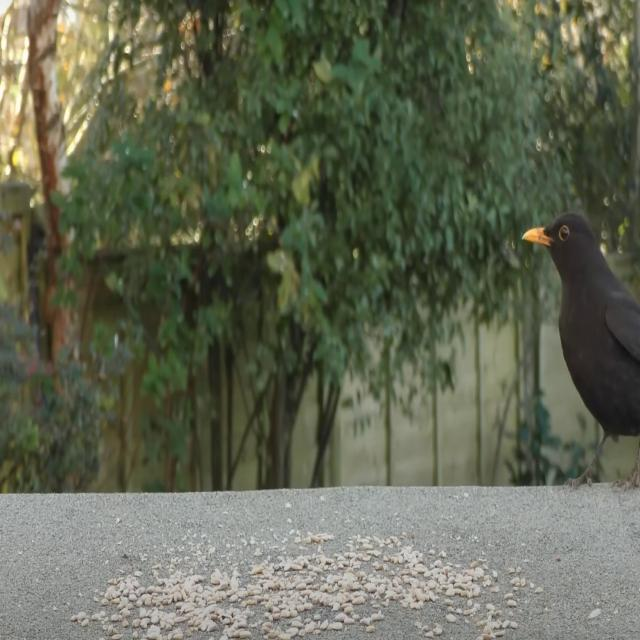beak: (520, 213, 550, 249)
bird: (516, 201, 640, 501)
